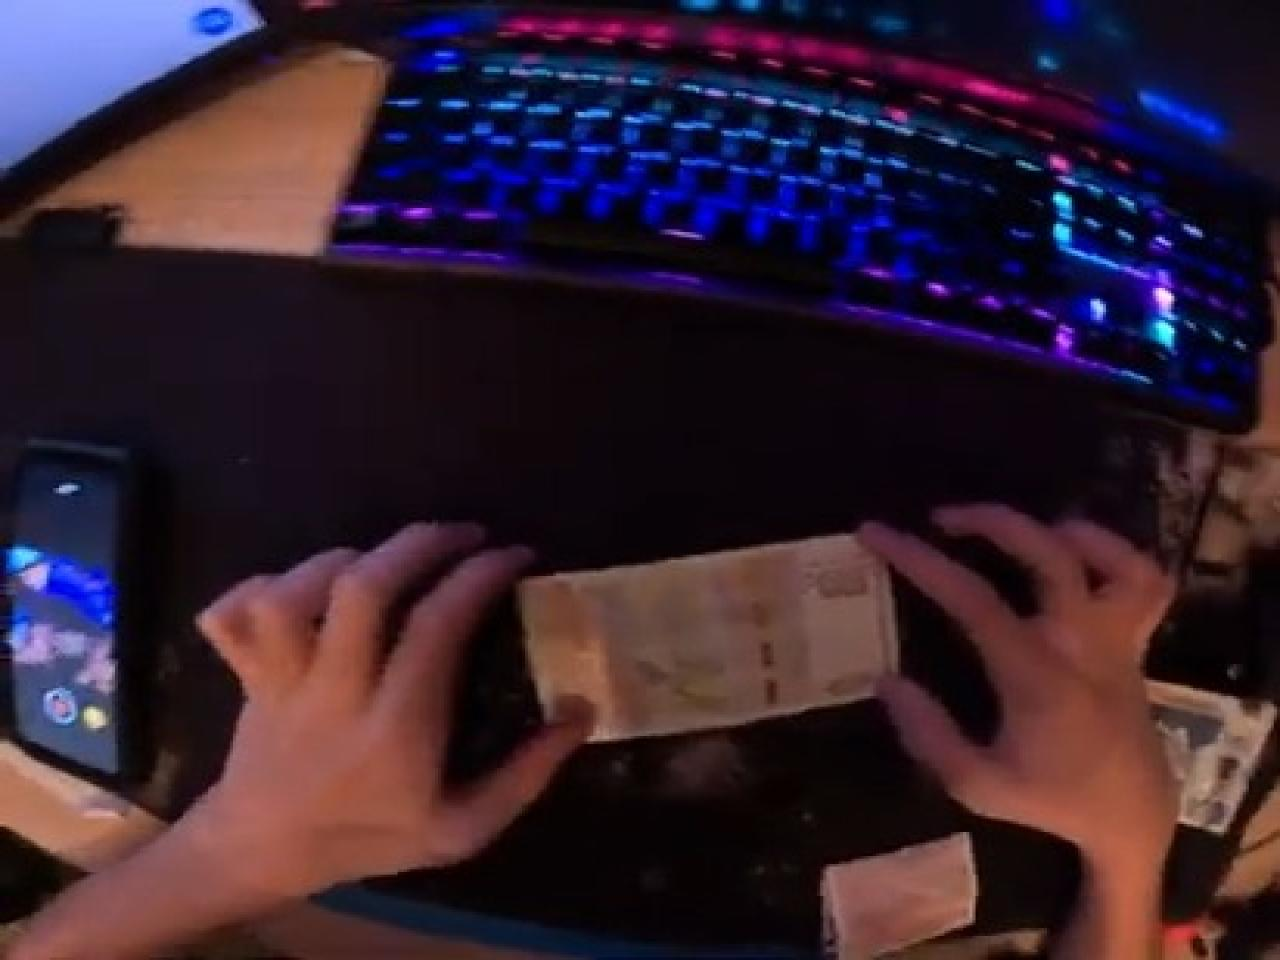50leva: (513, 533, 901, 747)
